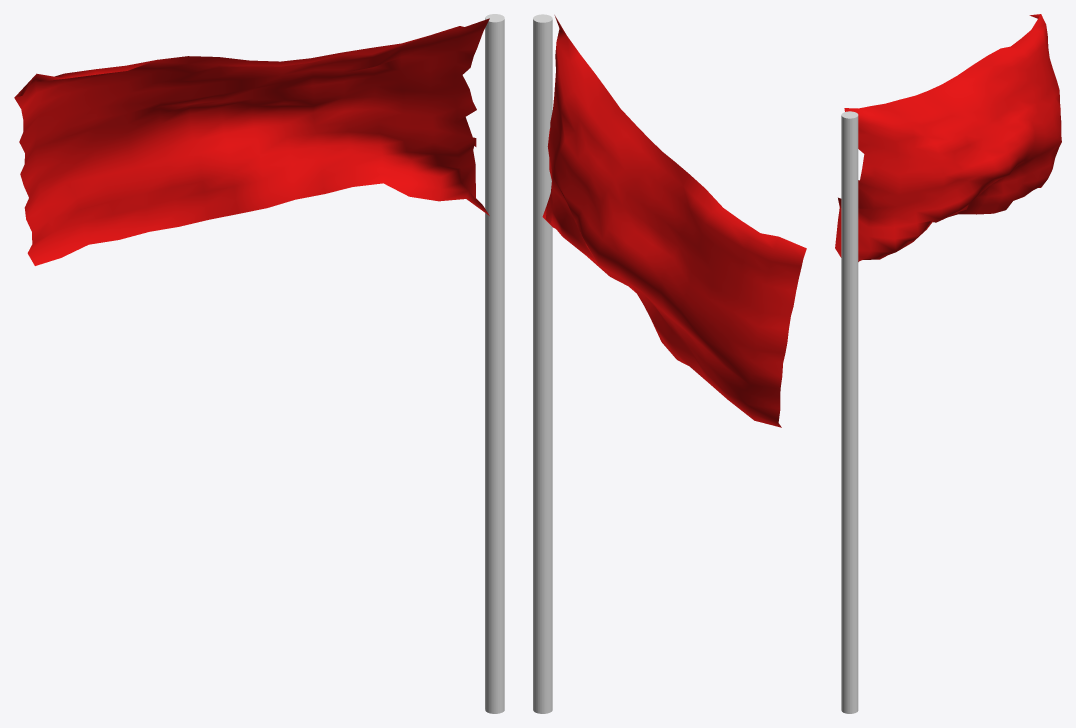
The model's file is flag-import.fbx.
3 renders of one model, left to right at view 1: azimuth 30°, elevation 25°; view 2: azimuth 150°, elevation 25°; view 3: azimuth 270°, elevation 25°, orthographic. The views are drawn at different scales.
Parts seen in each view (by area): view 1: Plane, Cylinder; view 2: Plane, Cylinder; view 3: Plane, Cylinder.
Boxes of the visible parts, bbox=[...] form: Plane: bbox=[14, 18, 489, 265]; Cylinder: bbox=[485, 14, 504, 713]; Plane: bbox=[542, 15, 806, 427]; Cylinder: bbox=[533, 14, 552, 713]; Plane: bbox=[835, 14, 1061, 261]; Cylinder: bbox=[841, 111, 858, 713].
Size of the model in its own units: 400 by 702 by 241.
